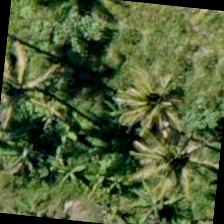Kelapa_Sawit: (122, 115, 222, 214), (97, 41, 196, 140), (0, 34, 56, 130)
